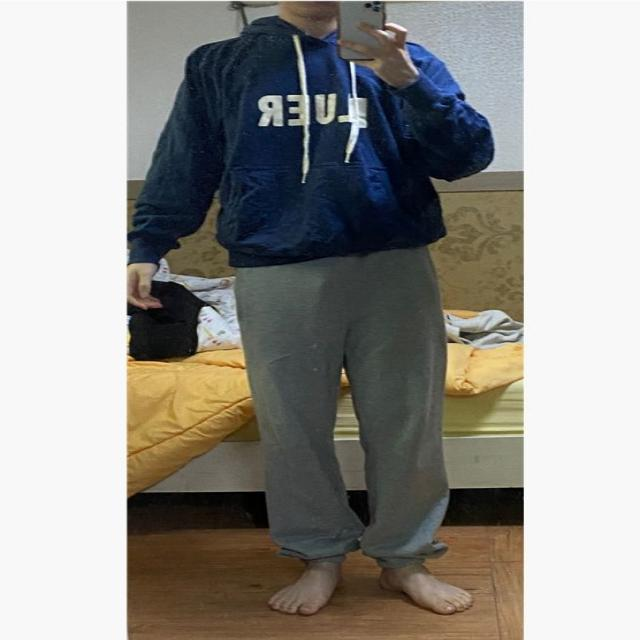hoodies: (127, 9, 496, 277)
trainingpants: (240, 246, 457, 568)
